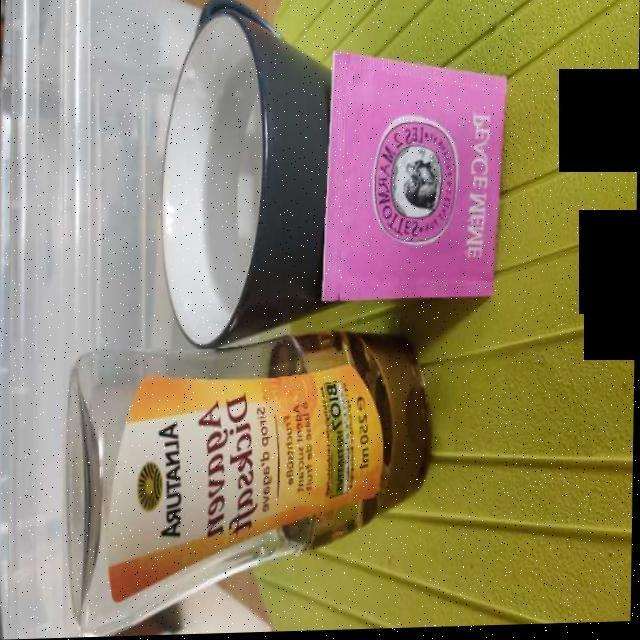tea: (200, 64, 266, 297)
